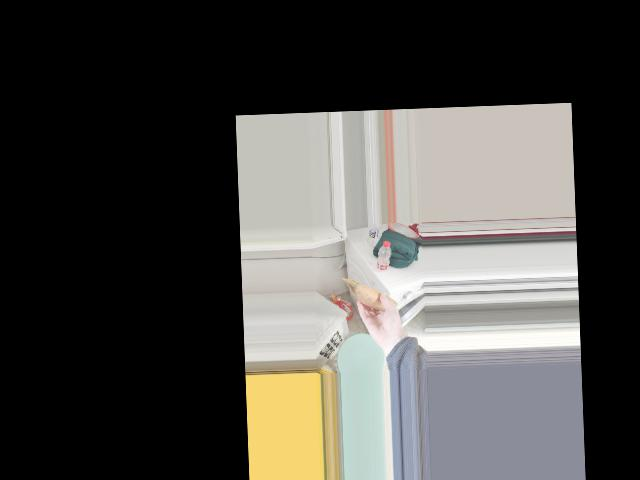sweet_potato: (358, 284, 391, 314)
